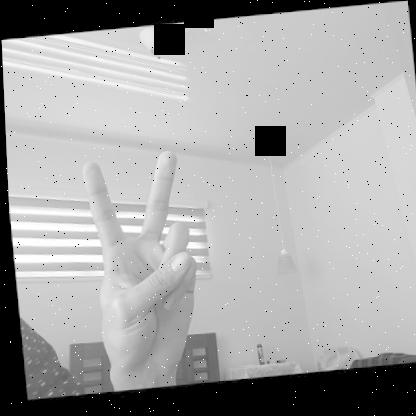V: (77, 148, 205, 382)
